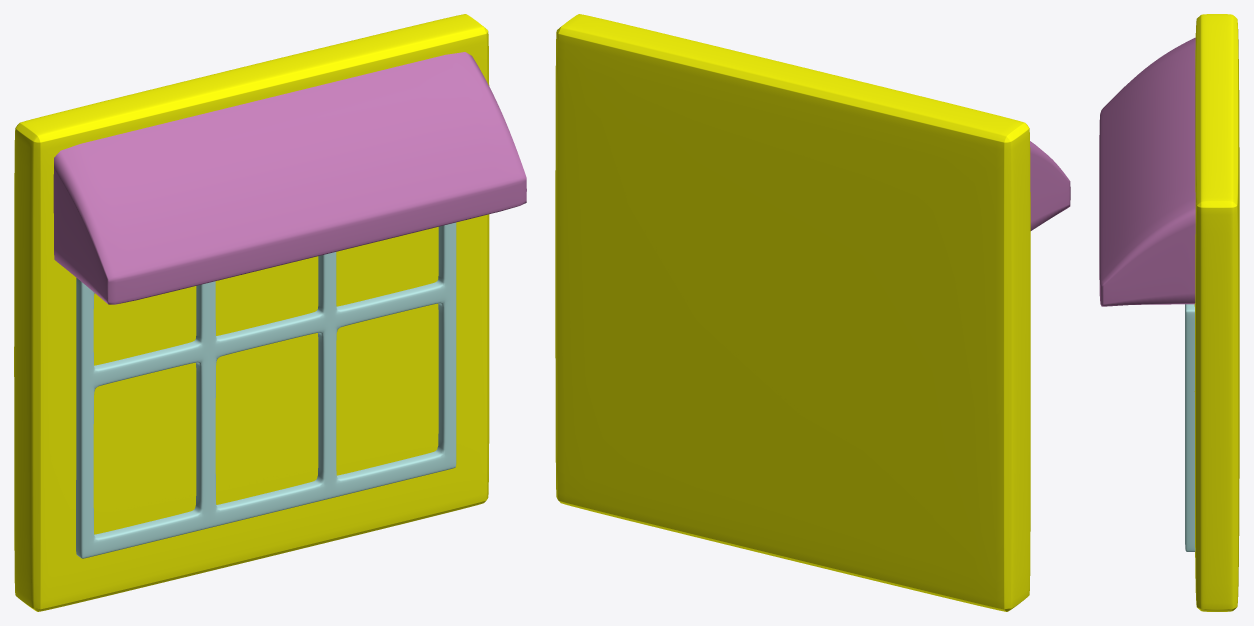
3 renders of one model, left to right at view 1: azimuth 30°, elevation 25°; view 2: azimuth 150°, elevation 25°; view 3: azimuth 270°, elevation 25°, orthographic. The views are drawn at different scales.
Parts seen in each view (by area): view 1: polySurface143821; view 2: polySurface143821; view 3: polySurface143821.
Part boxes in pixels (box(x1,y1,x2,y2)): polySurface143821: box(14, 14, 526, 611); polySurface143821: box(555, 14, 1070, 611); polySurface143821: box(1099, 14, 1239, 611).
Bounding box in the file's own units: 0.9995 × 0.9995 × 0.3081.
